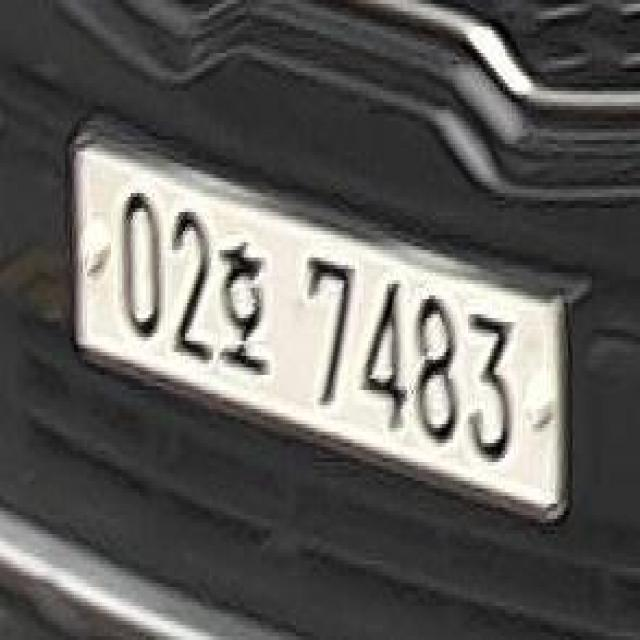illegal_plate: (72, 128, 565, 532)
